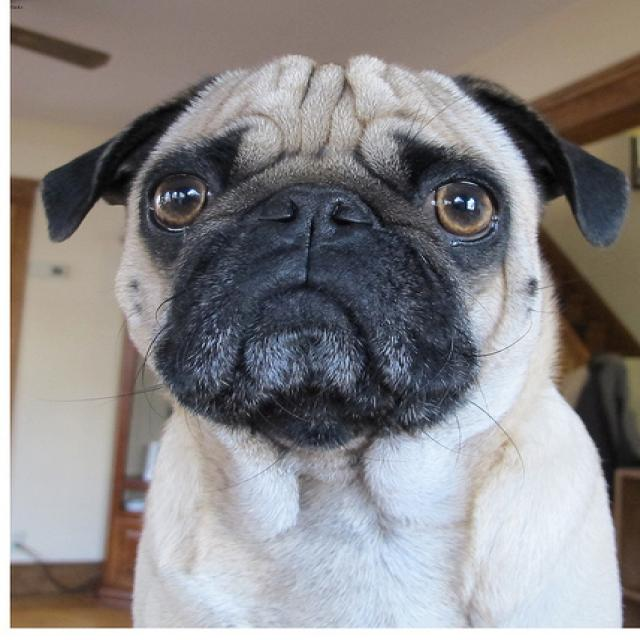dog-pug: (27, 45, 637, 637)
